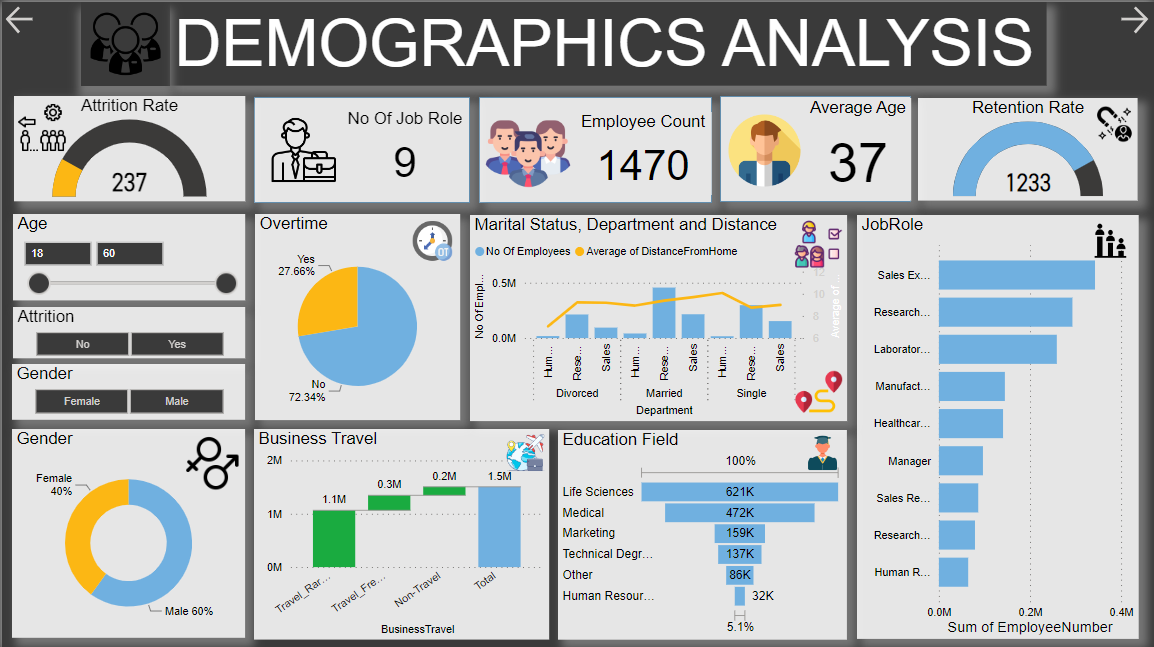

Layout of this report page (visuals, bound fields, positions):
{"tool":"powerbi","page":{"name":"Demographics","canvas":[1280,720],"ordinal":1},"visuals":[{"type":"textbox","box":[187.1,0,974.5,93.1],"z":0},{"type":"shape","box":[797.8,104.4,212.2,117.8],"z":0,"group":"g3"},{"type":"shape","box":[280,105.6,240,117.8],"z":0,"group":"g2"},{"type":"shape","box":[530,105.6,258.9,117.8],"z":0,"group":"g1"},{"type":"image","box":[87.8,0,98.9,93.3],"z":1000},{"type":"card","title":"No Of Job Role","fields":{"Values":["Count(HR-Employee-Attrition.JobRole)"]},"box":[376.7,119.4,142.2,92.2],"z":1000,"group":"g2"},{"type":"card","title":"Employee Count","fields":{"Values":["CountNonNull(HR-Employee-Attrition.EmployeeNumber)"]},"box":[635.6,121.8,153.3,92.3],"z":1000,"group":"g1"},{"type":"image","box":[530.9,115,105.6,107.9],"z":2000,"group":"g1"},{"type":"donutChart","title":"Gender","fields":{"Y":["CountNonNull(HR-Employee-Attrition.Gender)"],"Category":["HR-Employee-Attrition.Gender"]},"box":[11.1,474.4,258.9,232.2],"z":2000},{"type":"gauge","title":"Retention Rate","fields":{"Y":["HR-Employee-Attrition.Measure 2"],"MaxValue":["Sum(HR-Employee-Attrition.EmployeeCount)"]},"box":[1017.8,106.7,244.4,114.4],"z":3000},{"type":"slicer","title":"Gender","fields":{"Values":["HR-Employee-Attrition.Gender"]},"box":[11.1,402.2,258.9,62.2],"z":4000},{"type":"waterfallChart","title":"Business Travel","fields":{"Category":["HR-Employee-Attrition.BusinessTravel"],"Y":["Sum(HR-Employee-Attrition.EmployeeNumber)"]},"box":[280,474.4,327.8,234.4],"z":5000},{"type":"pieChart","title":"Overtime","fields":{"Category":["HR-Employee-Attrition.OverTime"],"Y":["Sum(HR-Employee-Attrition.EmployeeNumber)"]},"box":[281.2,235,227.5,228.8],"z":6000},{"type":"clusteredBarChart","title":"JobRole","fields":{"Category":["HR-Employee-Attrition.JobRole"],"Y":["Sum(HR-Employee-Attrition.EmployeeNumber)"]},"box":[950,236.2,312.5,471.2],"z":7000},{"type":"funnel","title":"Education Field","fields":{"Category":["HR-Employee-Attrition.EducationField"],"Y":["Sum(HR-Employee-Attrition.EmployeeNumber)"]},"box":[618,475,321.2,232.5],"z":8000},{"type":"lineStackedColumnComboChart","title":"Marital Status, Department and Distance","fields":{"Category":["HR-Employee-Attrition.MaritalStatus","HR-Employee-Attrition.Department"],"Y":["Sum(HR-Employee-Attrition.EmployeeNumber)"],"Y2":["Avg(HR-Employee-Attrition.DistanceFromHome)"]},"box":[520,236.2,418.8,228.8],"z":9000},{"type":"slicer","title":"Age","fields":{"Values":["HR-Employee-Attrition.Age"]},"box":[12.2,235,257.8,95.6],"z":10000},{"type":"group","id":"g1","title":"Group 1","box":[530,105.6,258.9,117.8],"z":11000},{"type":"slicer","title":"Attrition","fields":{"Values":["HR-Employee-Attrition.Attrition"]},"box":[12.2,339,257.8,56.7],"z":12000},{"type":"image","box":[293.4,114.5,84.5,100],"z":12001,"group":"g2"},{"type":"group","id":"g2","title":"Group 2","box":[280,105.6,240,117.8],"z":13000},{"type":"group","id":"g3","title":"Group 3","box":[797.8,104.4,212.2,117.8],"z":14000},{"type":"gauge","title":"Attrition Rate","fields":{"Y":["HR-Employee-Attrition.Measure"],"MaxValue":["Sum(HR-Employee-Attrition.EmployeeCount)"]},"box":[13.3,104.4,256.7,116.7],"z":15000},{"type":"card","title":"Average Age","fields":{"Values":["Avg(HR-Employee-Attrition.Age)"]},"box":[892.2,106.7,117.8,114.4],"z":16000},{"type":"image","box":[802.2,120,90,90],"z":17000},{"type":"image","box":[197.8,475.6,72.2,74.4],"z":18000},{"type":"image","box":[447.8,236.7,61.1,56.7],"z":19000},{"type":"image","box":[11.1,104.4,65.6,68.9],"z":20000},{"type":"image","box":[1201.1,236.7,61.1,56.7],"z":21000},{"type":"image","box":[875.6,235.6,63.3,65.6],"z":22000},{"type":"image","box":[875.6,402.2,63.3,62.2],"z":23000},{"type":"image","box":[883.3,475.6,55.6,51.1],"z":24000},{"type":"image","box":[555.6,474.4,52.2,52.2],"z":25000},{"type":"image","box":[1210.3,106.4,52.3,56.7],"z":26000},{"type":"actionButton","box":[1237.8,0,42.6,39.9],"z":27000},{"type":"actionButton","box":[0,0,43.4,39.9],"z":28000}]}

Visuals, with their boxes in screenshot pixels (x1, y1, x2, y2), scaled from the page's 1280x720 canvas onto the 1154x647 screenshot:
textbox: box=[169, 0, 1047, 84]
shape: box=[719, 94, 911, 200]
shape: box=[252, 95, 469, 201]
shape: box=[478, 95, 711, 201]
image: box=[79, 0, 168, 84]
"No Of Job Role" card: box=[340, 107, 468, 190]
"Employee Count" card: box=[573, 109, 711, 192]
image: box=[479, 103, 574, 200]
"Gender" donutChart: box=[10, 426, 243, 635]
"Retention Rate" gauge: box=[918, 96, 1138, 199]
"Gender" slicer: box=[10, 361, 243, 417]
"Business Travel" waterfallChart: box=[252, 426, 548, 637]
"Overtime" pieChart: box=[254, 211, 459, 417]
"JobRole" clusteredBarChart: box=[856, 212, 1138, 636]
"Education Field" funnel: box=[557, 427, 847, 636]
"Marital Status, Department and Distance" lineStackedColumnComboChart: box=[469, 212, 846, 418]
"Age" slicer: box=[11, 211, 243, 297]
"Group 1" group: box=[478, 95, 711, 201]
"Attrition" slicer: box=[11, 305, 243, 356]
image: box=[265, 103, 341, 193]
"Group 2" group: box=[252, 95, 469, 201]
"Group 3" group: box=[719, 94, 911, 200]
"Attrition Rate" gauge: box=[12, 94, 243, 199]
"Average Age" card: box=[804, 96, 911, 199]
image: box=[723, 108, 804, 189]
image: box=[178, 427, 243, 494]
image: box=[404, 213, 459, 264]
image: box=[10, 94, 69, 156]
image: box=[1083, 213, 1138, 264]
image: box=[789, 212, 846, 271]
image: box=[789, 361, 846, 417]
image: box=[796, 427, 846, 473]
image: box=[501, 426, 548, 473]
image: box=[1091, 96, 1138, 147]
actionButton: box=[1116, 0, 1153, 36]
actionButton: box=[0, 0, 39, 36]
